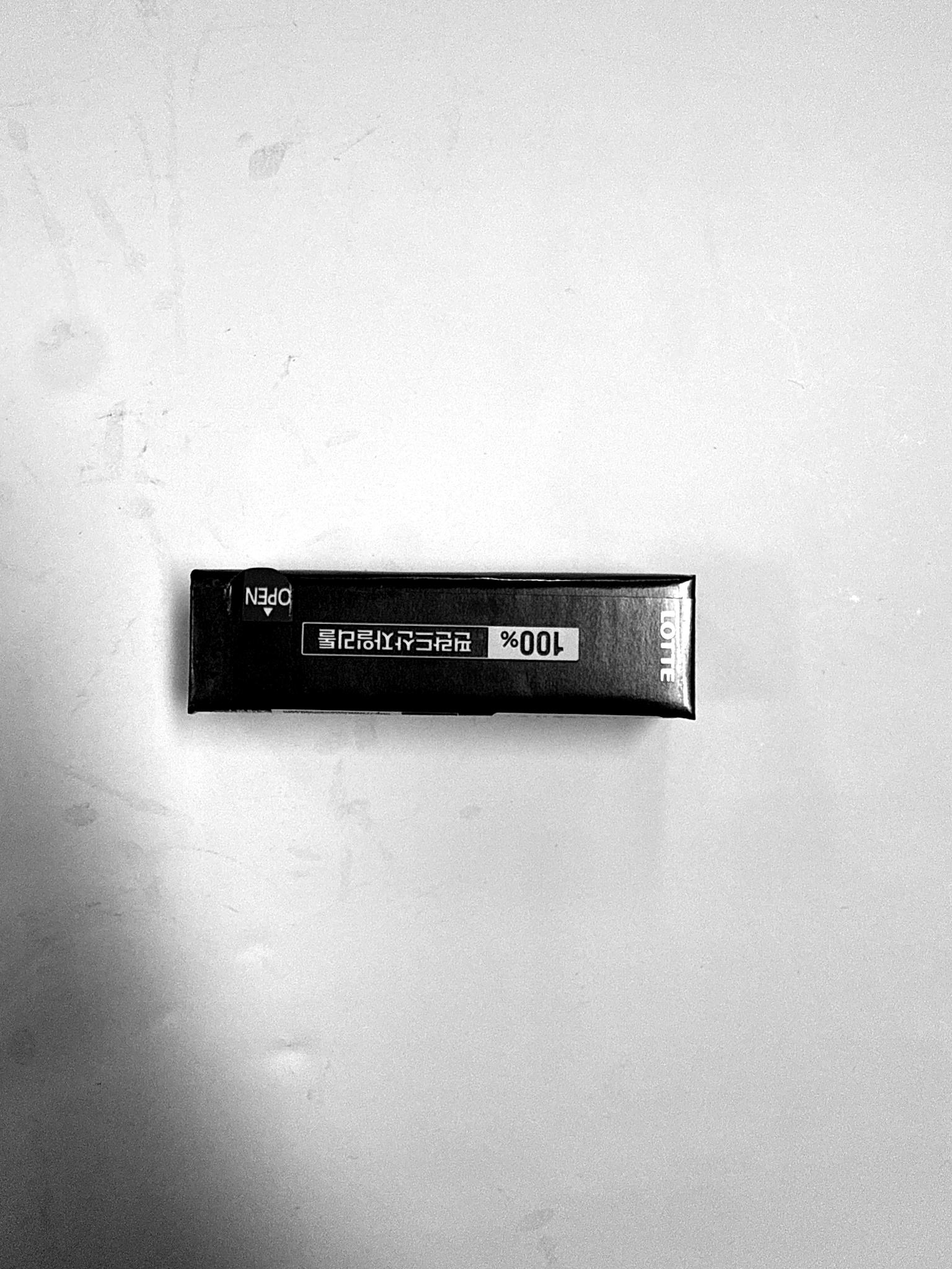gum_green: (188, 567, 697, 719)
